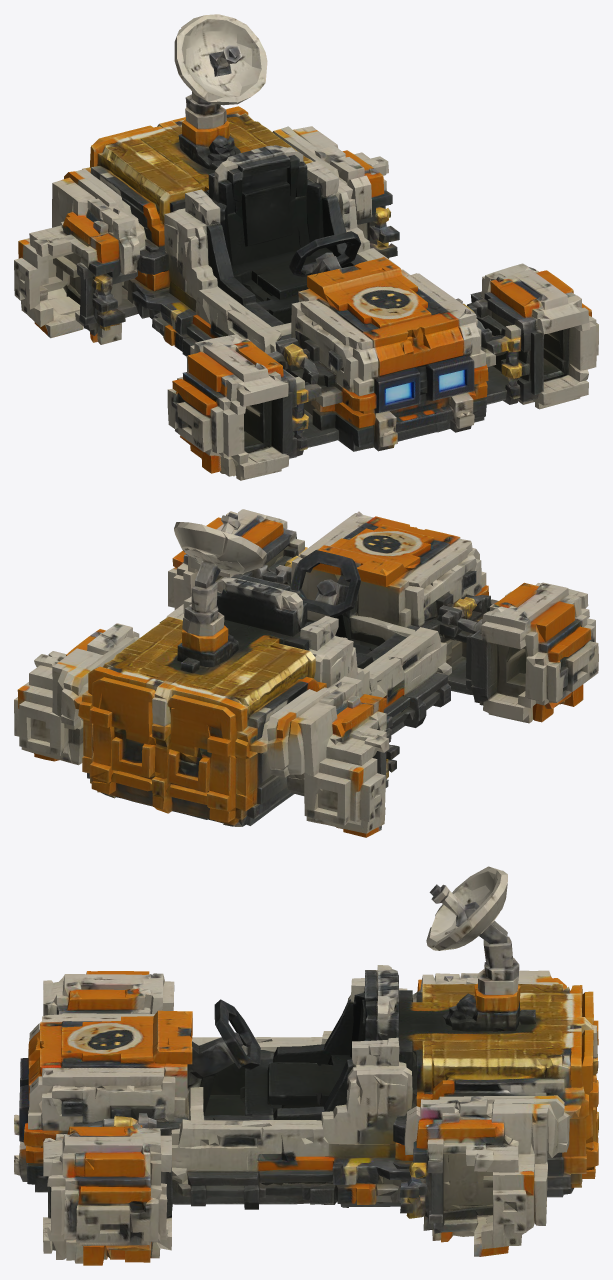
File: moon-rover.glb
The picture shows the model from 3 angles, top to bottom: view 1: azimuth 30°, elevation 25°; view 2: azimuth 150°, elevation 25°; view 3: azimuth 270°, elevation 25°; orthographic projection. The views are drawn at different scales.
Parts seen in each view (by area): view 1: model; view 2: model; view 3: model.
Boxes of the visible parts, <box> form: model: <box>14,14,598,480</box>; model: <box>14,509,598,837</box>; model: <box>14,866,598,1265</box>.
Bounding box in the file's own units: 1.61 × 1.06 × 1.9.
1 material, 1 textured.
